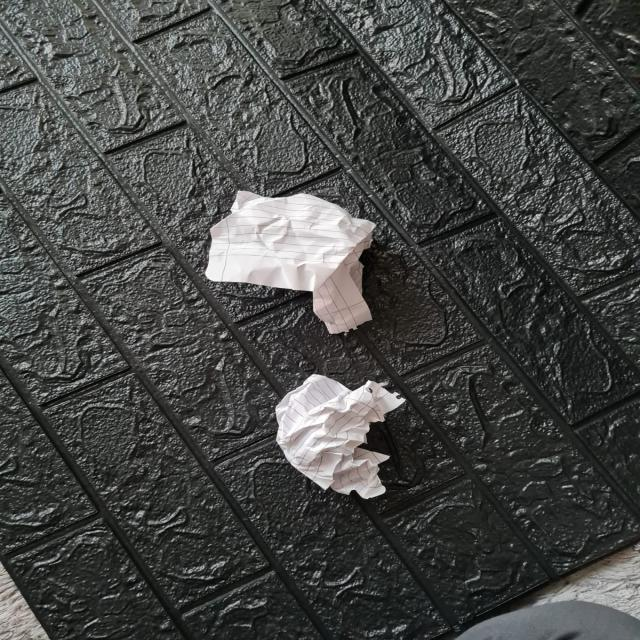Paper: (210, 185, 382, 332), (284, 373, 402, 494)
